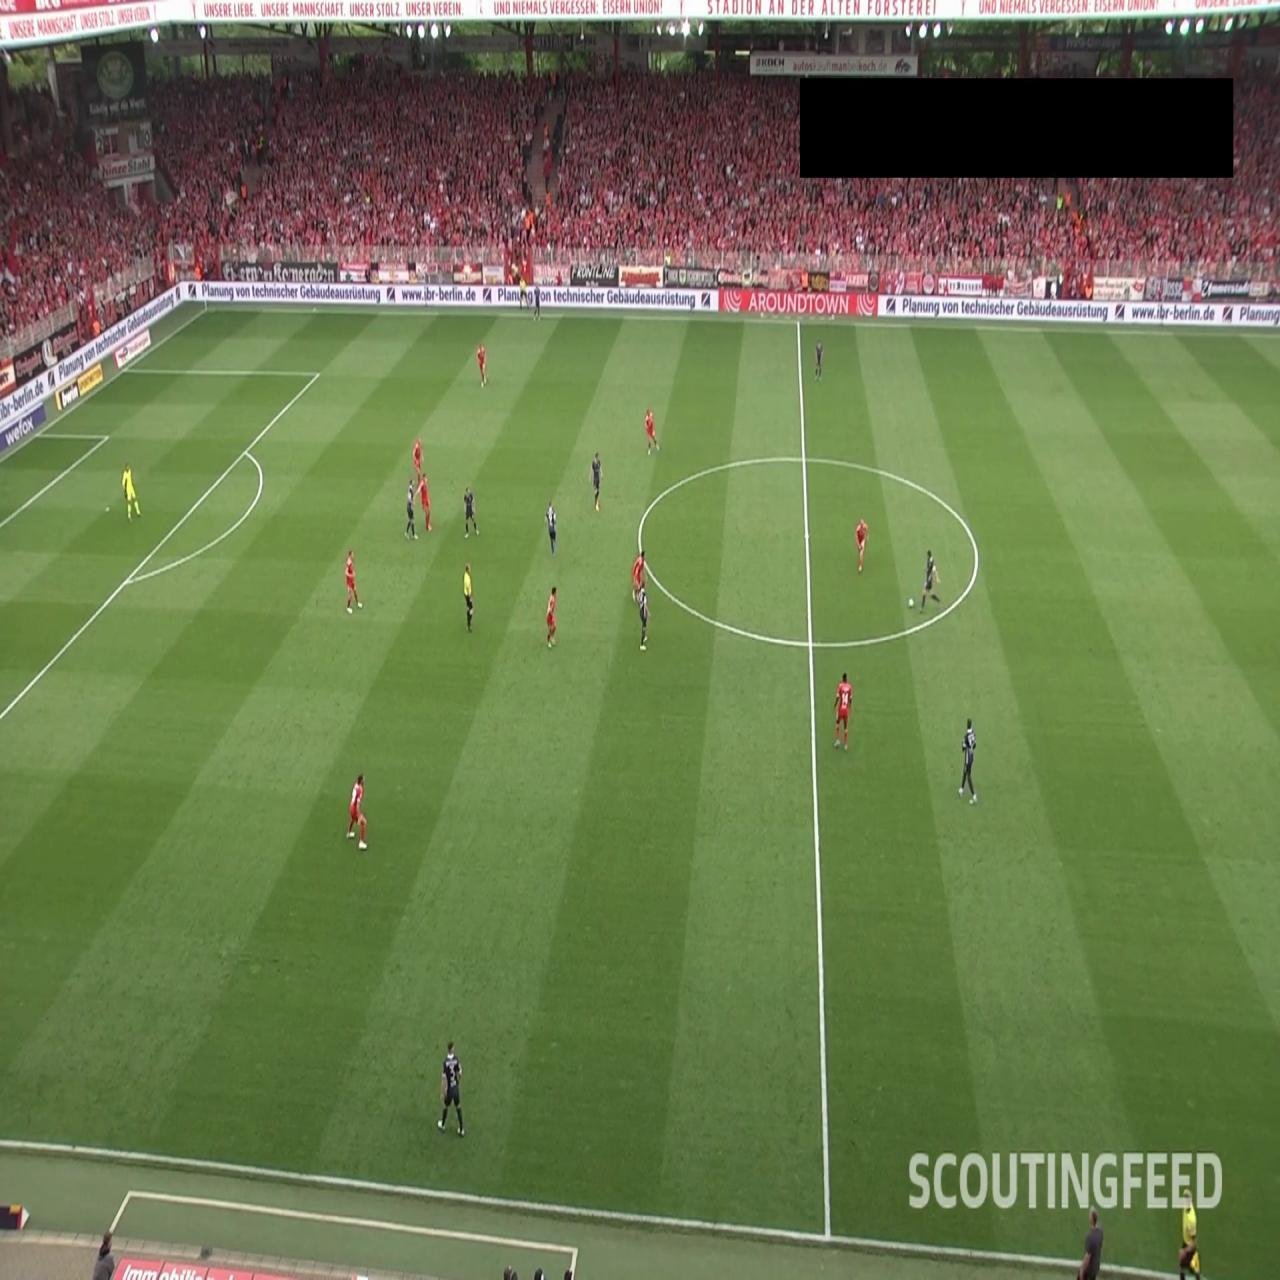Ball: (907, 595, 915, 610)
GoalKeeper: (121, 462, 142, 523)
Player: (437, 1040, 465, 1136), (958, 717, 978, 804), (346, 773, 368, 851), (832, 671, 852, 750), (920, 548, 941, 612), (345, 548, 363, 612), (588, 452, 604, 514), (631, 547, 648, 605), (638, 581, 651, 654), (543, 500, 558, 562), (417, 472, 432, 532), (405, 478, 418, 542), (464, 486, 479, 540), (855, 518, 869, 572), (412, 436, 425, 494), (546, 586, 558, 648), (645, 409, 659, 455), (476, 343, 488, 388), (532, 283, 540, 324), (815, 338, 823, 379)
Referee: (1175, 1185, 1201, 1280), (462, 562, 474, 632), (518, 274, 530, 312)
